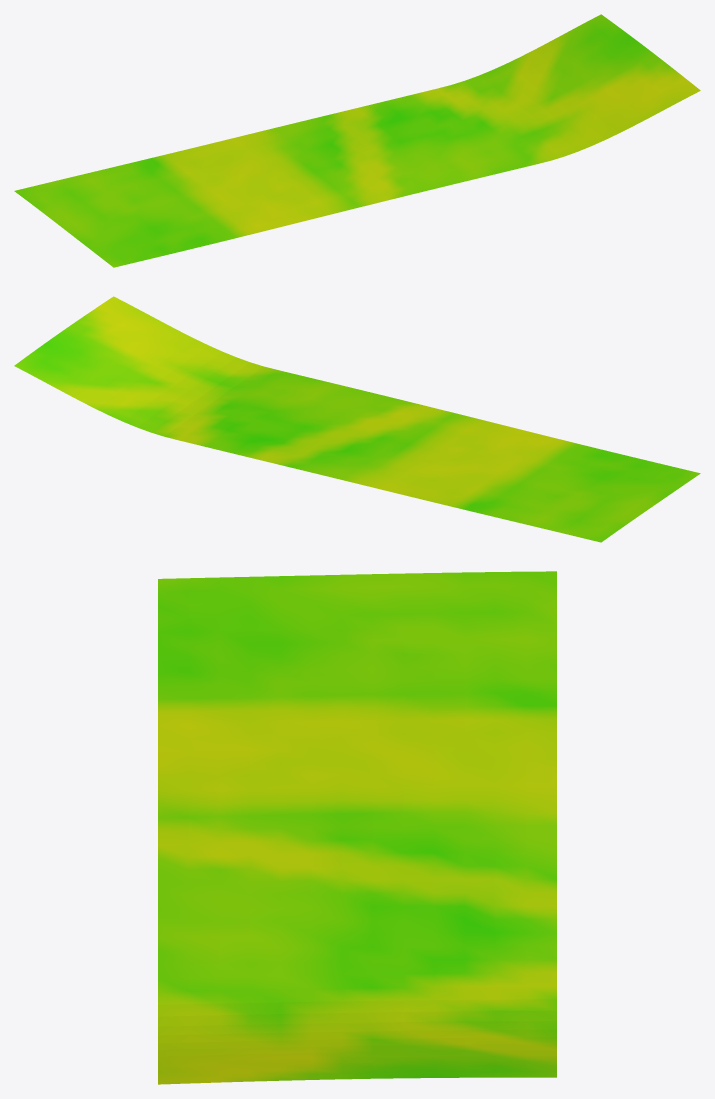
Rendered from terrain_2_4.glb.
3 views of the same model, one above another, from view 1: azimuth 30°, elevation 25°; view 2: azimuth 150°, elevation 25°; view 3: azimuth 270°, elevation 25° (orthographic). The views are drawn at different scales.
Visible parts, largest first — view 1: terrain_2_4; view 2: terrain_2_4; view 3: terrain_2_4.
Part boxes in pixels (x1,y1,x2,y2): terrain_2_4: (14,14,700,267); terrain_2_4: (14,296,700,542); terrain_2_4: (158,571,556,1084).
Bounding box in the file's own units: 85 × 5.2 × 25.
